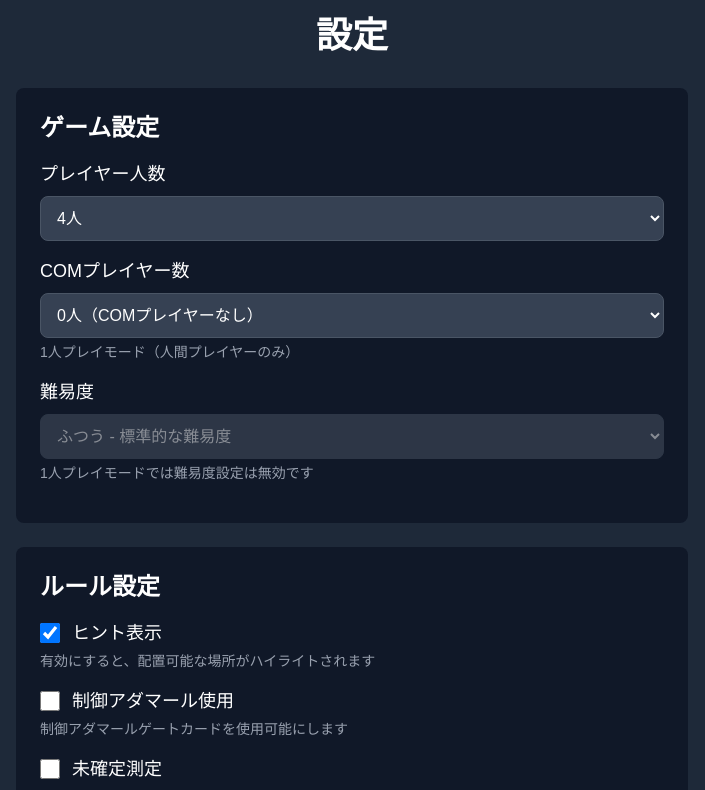
Scenario: SettingsScreen Component › User Interactions › should adjust COM player count when total player count changes
Expected: the dropdown with test id "com-player-count-select" shows "0人（COMプレイヤーなし）", [40,293,664,338]
Change total players to 3
Select "3人" in the dropdown with test id "player-count-select" at (352, 218), box [40,196,664,241]
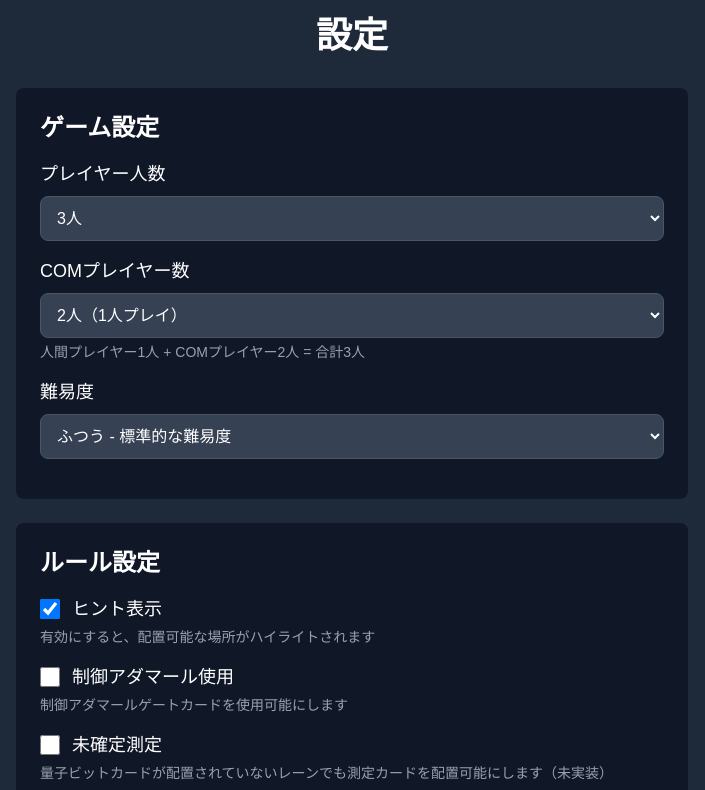
Expected: the dropdown with test id "com-player-count-select" shows "2人（1人プレイ）", [40,293,664,338]
